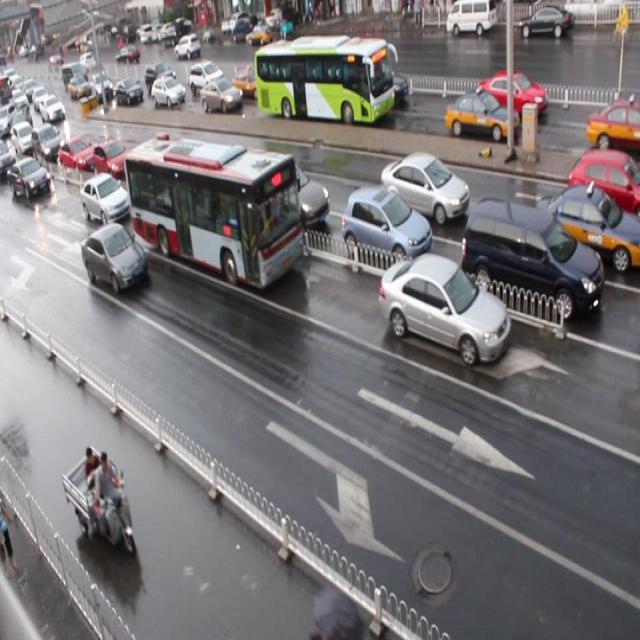car: (379, 255, 509, 366), (534, 185, 640, 275), (340, 188, 430, 272), (380, 150, 468, 228), (247, 159, 328, 233), (566, 150, 640, 225), (80, 224, 146, 294), (445, 89, 520, 147), (176, 150, 241, 207), (478, 70, 548, 122), (342, 64, 409, 110), (81, 173, 132, 226), (586, 100, 640, 150), (131, 145, 178, 194), (1, 156, 51, 201), (200, 78, 243, 114), (88, 136, 126, 175), (59, 134, 95, 174), (188, 61, 225, 98), (231, 70, 269, 102), (150, 77, 186, 108), (30, 126, 59, 163), (145, 62, 176, 94), (115, 79, 144, 107), (92, 73, 113, 102)
truck: (461, 194, 603, 325)
van: (124, 134, 304, 289), (254, 34, 395, 125)
